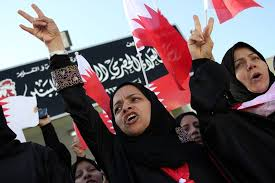middle_eastern_Female: (113, 79, 157, 137)
